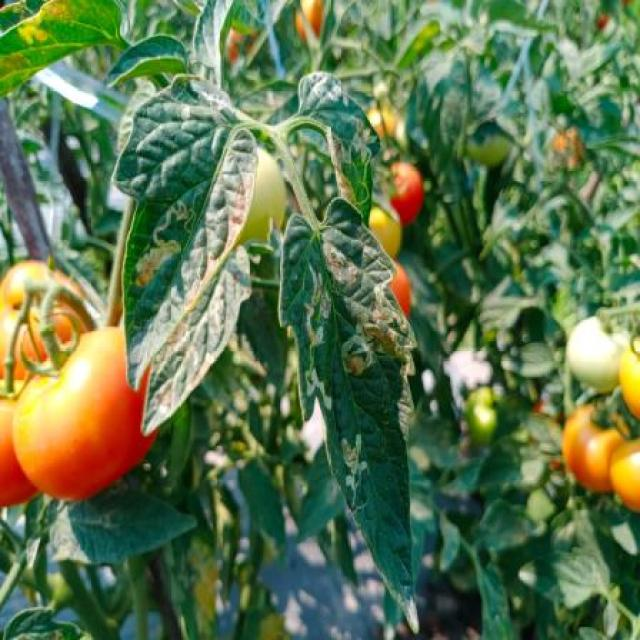Leaf Miner: (277, 197, 422, 640), (112, 72, 258, 395), (297, 70, 382, 226)
